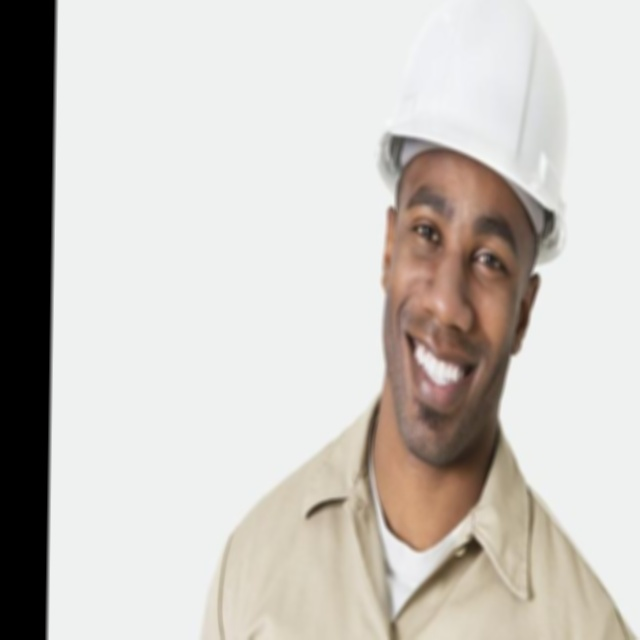Con_Casco: (374, 0, 574, 453)
